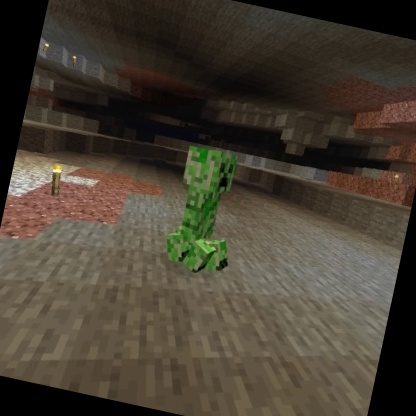creeper: (156, 141, 253, 285)
